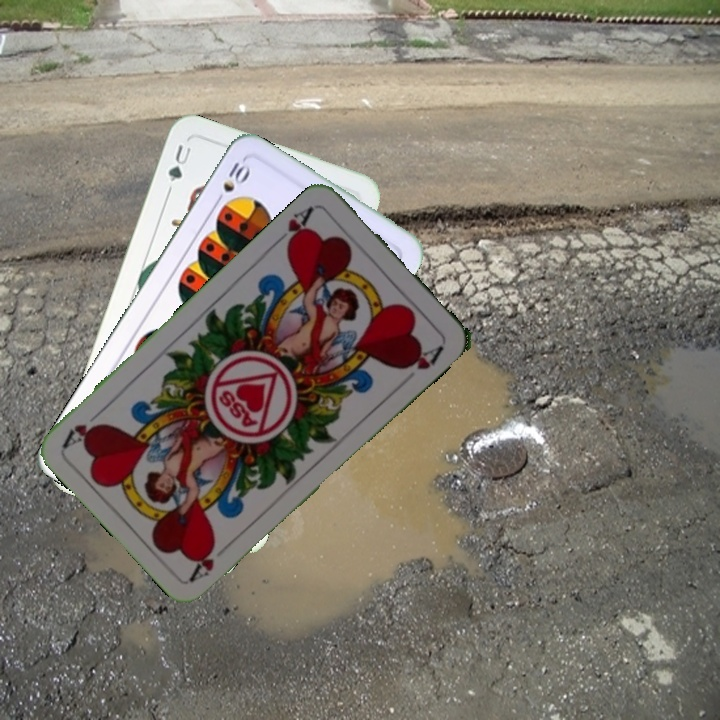GU: (164, 140, 194, 185)
HA: (270, 201, 317, 254), (186, 538, 234, 583)
S10: (210, 155, 253, 208)
